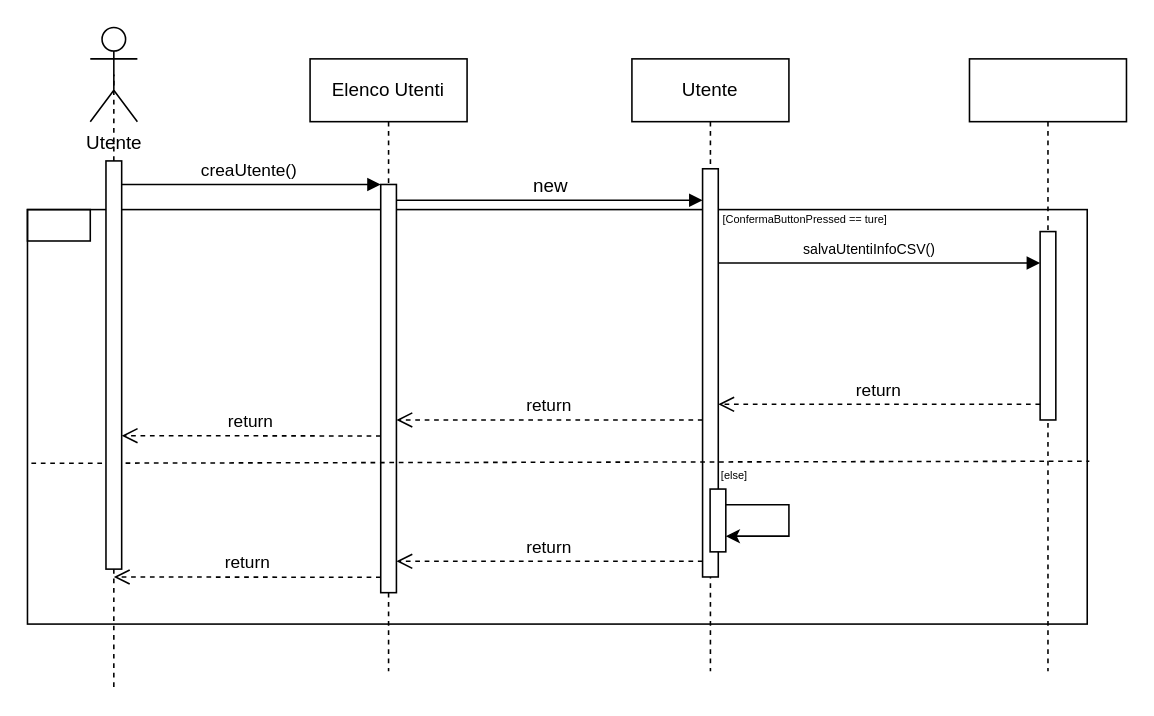
The diagram is 1154 pixels wide and 716 high, and some of its shapes have lost their labels. The box of each missing label's shape, as (x1, y1, x2, y2) in pixels:
alt: (26, 208, 90, 241)
GestioneFileEsternoUtenti: (968, 57, 1126, 671)
